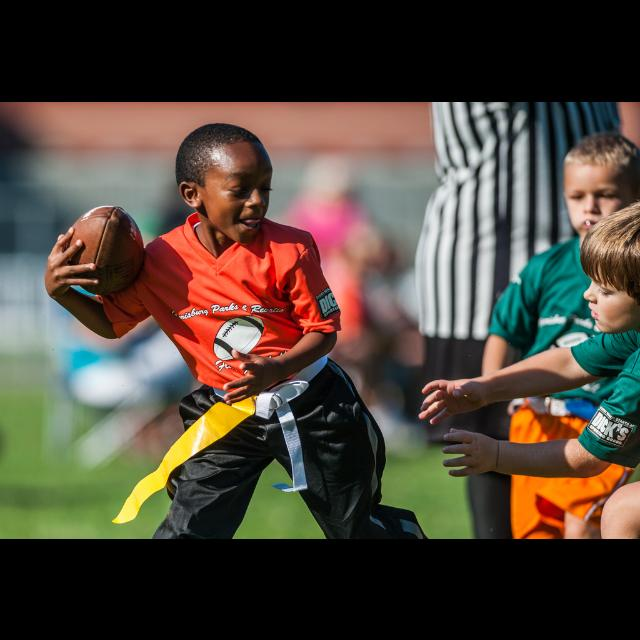Football: (62, 202, 144, 296)
